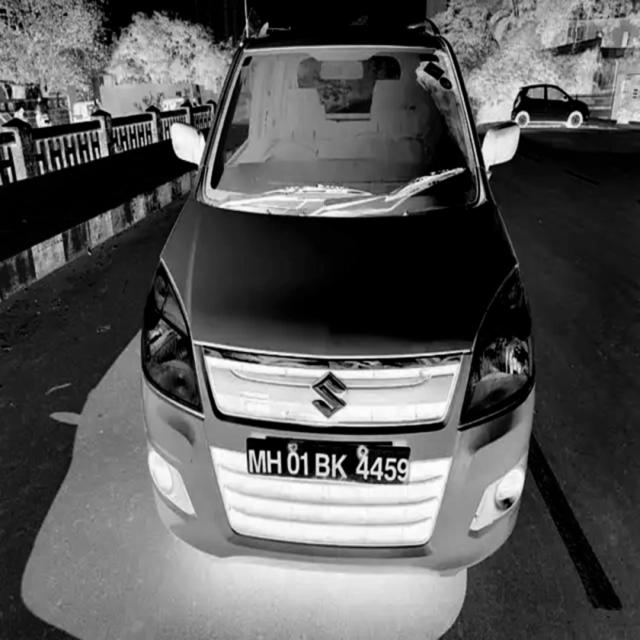Non_registered: (244, 432, 410, 489)
